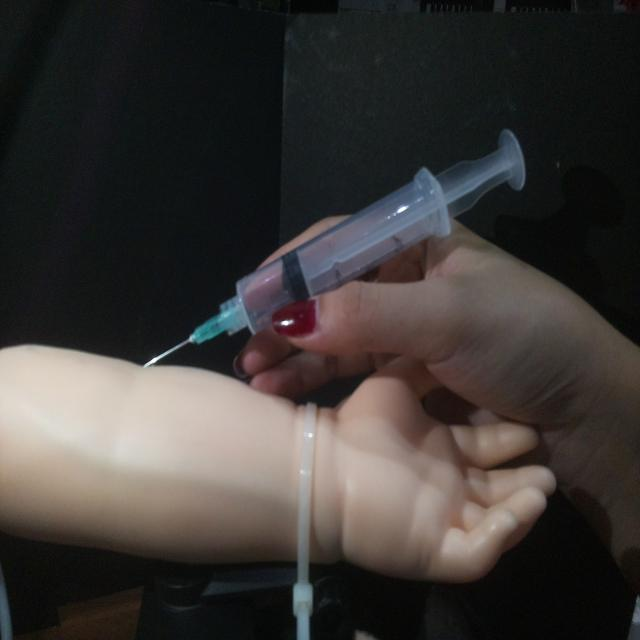27deg: (139, 123, 530, 371)
